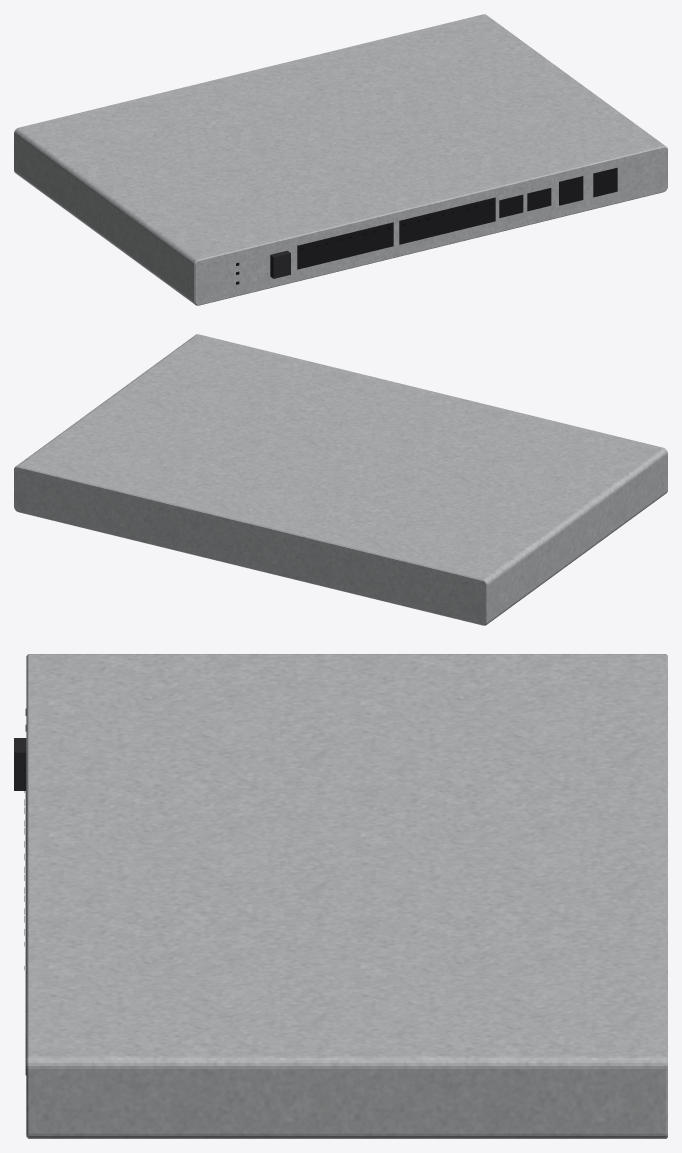
The model's file is C8231-G2.far.glb.
3 renders of one model, top to bottom at view 1: azimuth 30°, elevation 25°; view 2: azimuth 150°, elevation 25°; view 3: azimuth 270°, elevation 25°, orthographic. The views are drawn at different scales.
Parts seen in each view (by area): view 1: Shell_far; view 2: Shell_far; view 3: Shell_far.
Part boxes in pixels (x1,y1,x2,y2): Shell_far: (14,14,667,305); Shell_far: (14,334,667,625); Shell_far: (14,654,667,1138).
Bounding box in the file's own units: 0.3106 × 0.0289 × 0.2097.
3 materials, 2 textured.
